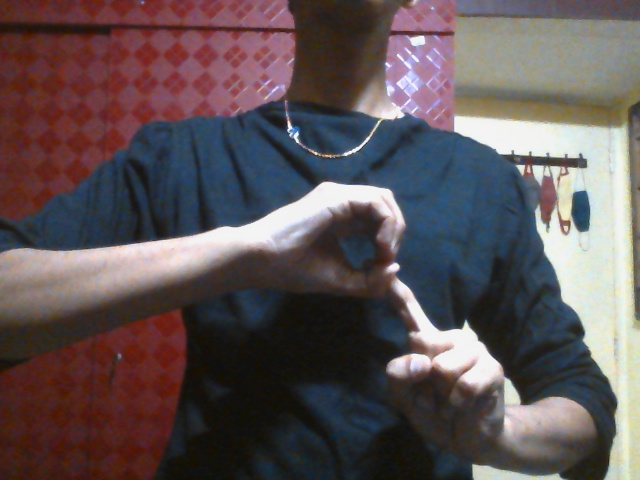Q: (246, 178, 507, 457)
